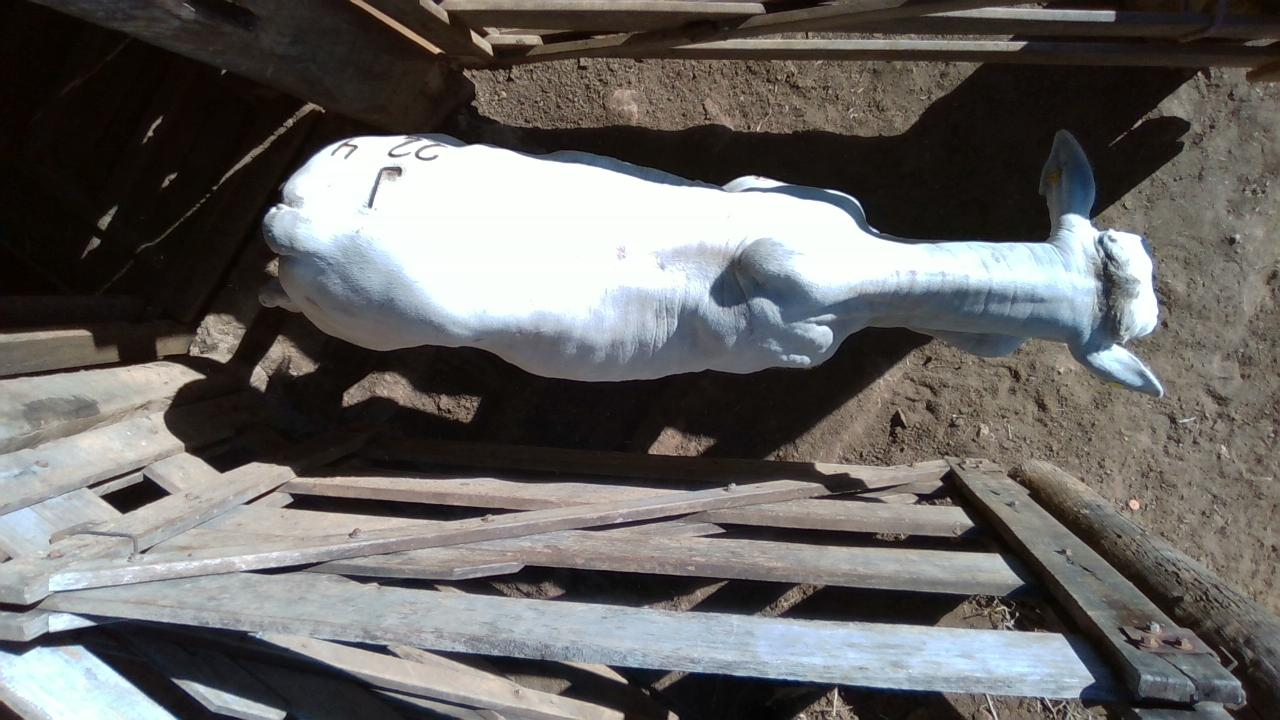cattle: (256, 126, 1165, 399)
